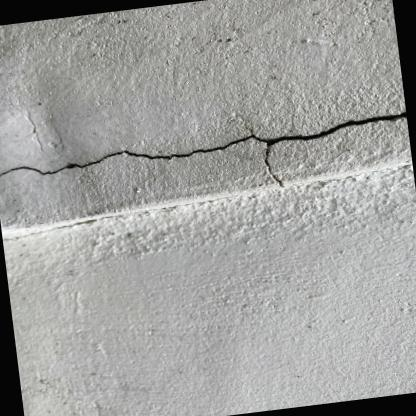crack: (0, 110, 406, 185)
